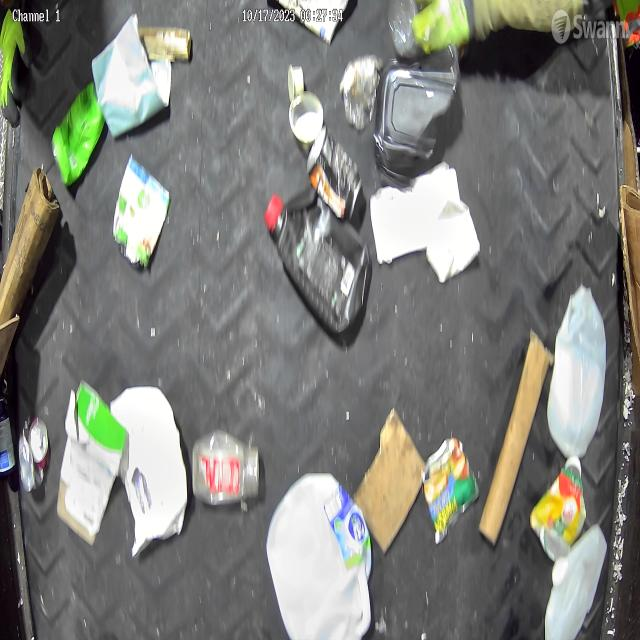can: (112, 154, 170, 265), (423, 436, 478, 538), (306, 127, 364, 218), (19, 414, 49, 490)
milk_jug: (266, 468, 371, 640), (110, 386, 190, 536), (548, 284, 606, 456), (546, 522, 607, 639)
non_white_jug: (264, 192, 371, 330)
